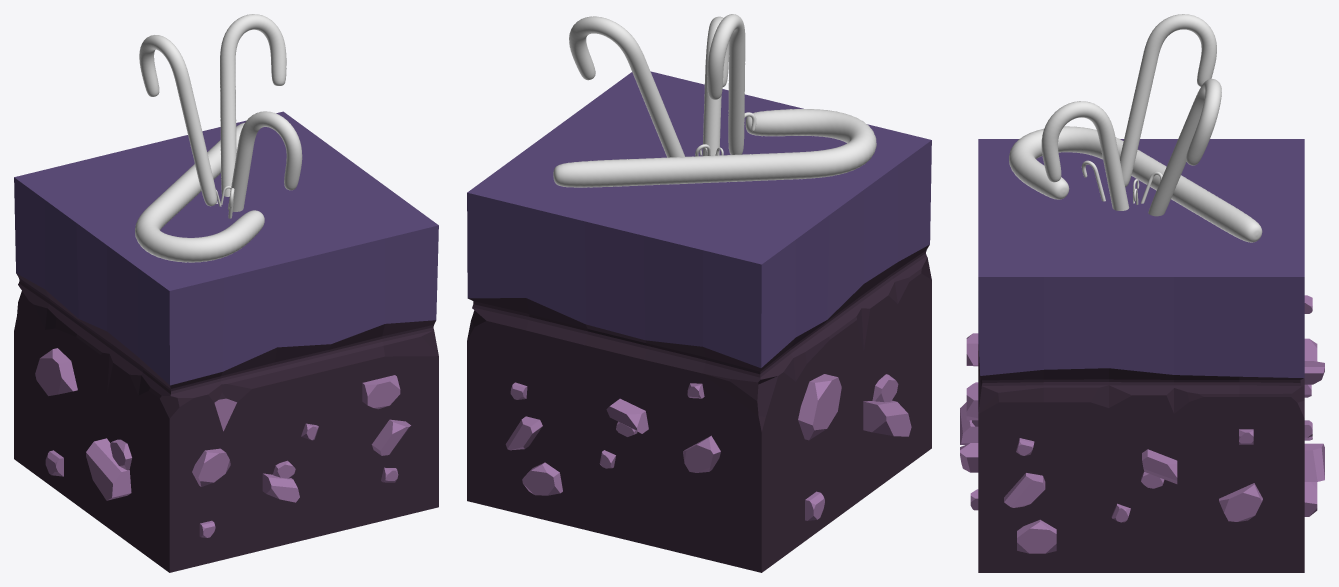
Rendered from CandyCaneTile.fbx.
3 renders of one model, left to right at view 1: azimuth 30°, elevation 25°; view 2: azimuth 150°, elevation 25°; view 3: azimuth 270°, elevation 25°, orthographic. The views are drawn at different scales.
Parts seen in each view (by area): view 1: CandyStick, CandyCane, CandyCane.003, CandyCane.002, CandyCane.004; view 2: CandyStick, CandyCane, CandyCane.003, CandyCane.002, CandyCane.004; view 3: CandyStick, CandyCane, CandyCane.002, CandyCane.004, CandyCane.003.
Part boxes in pixels (bbox=[...]): CandyStick: bbox=[14, 111, 438, 572]; CandyCane: bbox=[135, 122, 264, 262]; CandyCane.003: bbox=[220, 14, 286, 196]; CandyCane.002: bbox=[139, 35, 217, 206]; CandyCane.004: bbox=[228, 111, 302, 211]; CandyStick: bbox=[467, 71, 931, 572]; CandyCane: bbox=[553, 109, 876, 187]; CandyCane.003: bbox=[569, 16, 684, 157]; CandyCane.002: bbox=[707, 14, 745, 154]; CandyCane.004: bbox=[702, 16, 729, 156]; CandyStick: bbox=[960, 139, 1324, 572]; CandyCane: bbox=[1009, 126, 1262, 242]; CandyCane.002: bbox=[1120, 14, 1216, 186]; CandyCane.004: bbox=[1041, 101, 1129, 210]; CandyCane.003: bbox=[1148, 79, 1221, 216].
Size of the model in its own units: 227 by 315 by 224.
